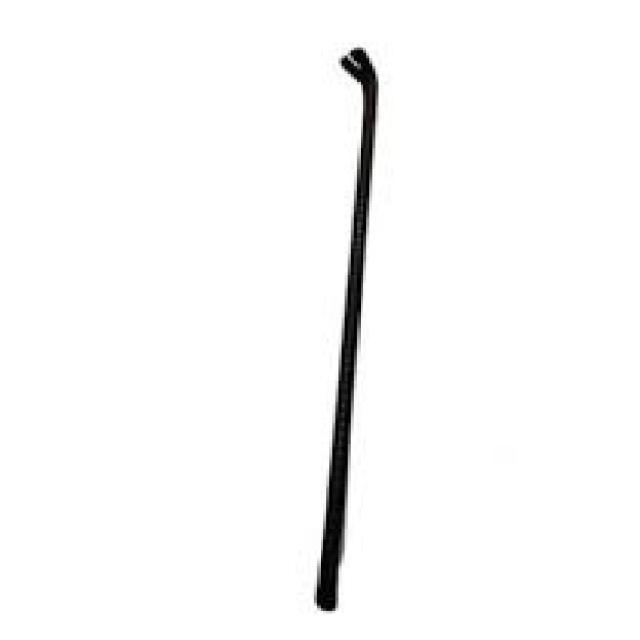Linggis: (301, 41, 392, 613)
